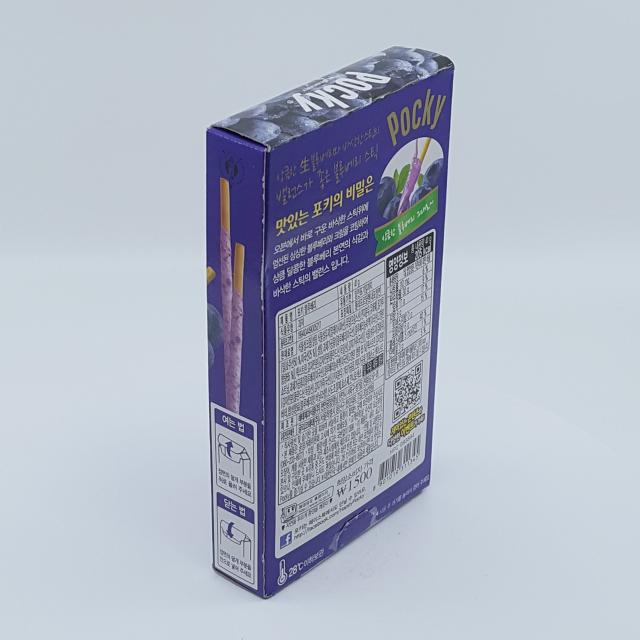-41G: (207, 47, 456, 600)
